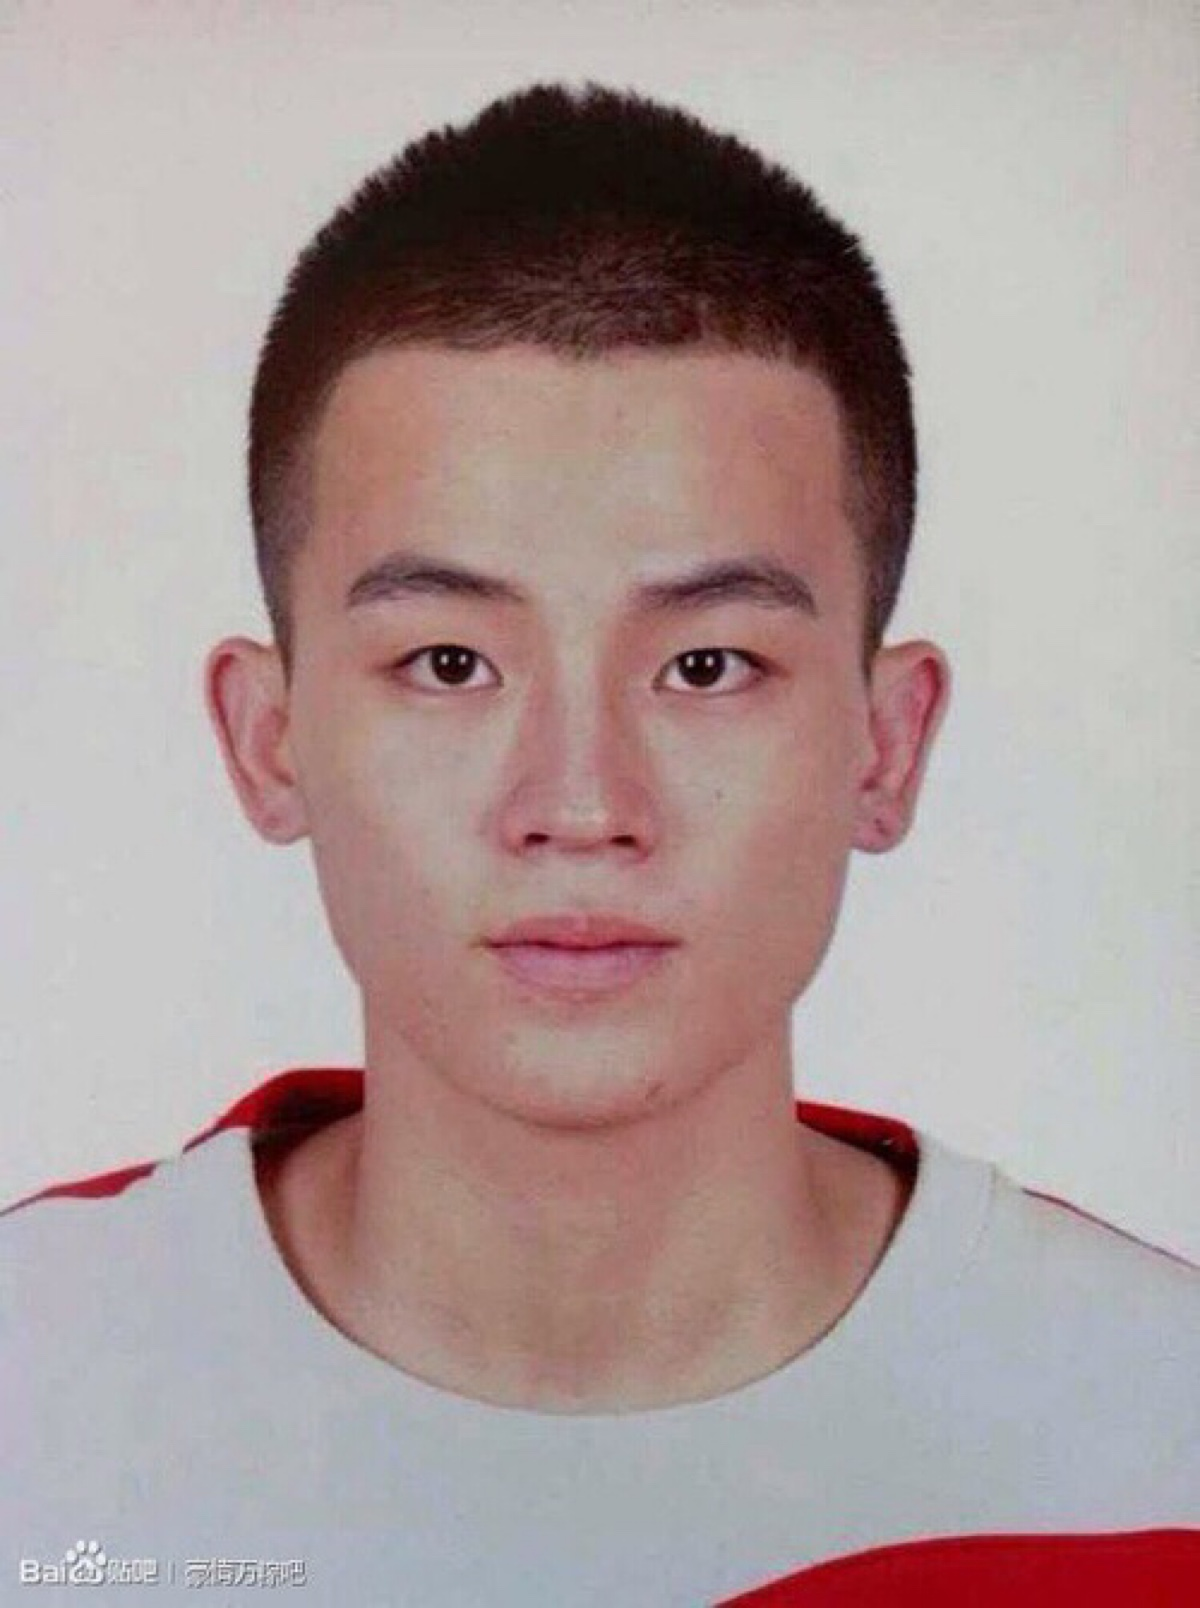unmask: (309, 355, 859, 1103)
